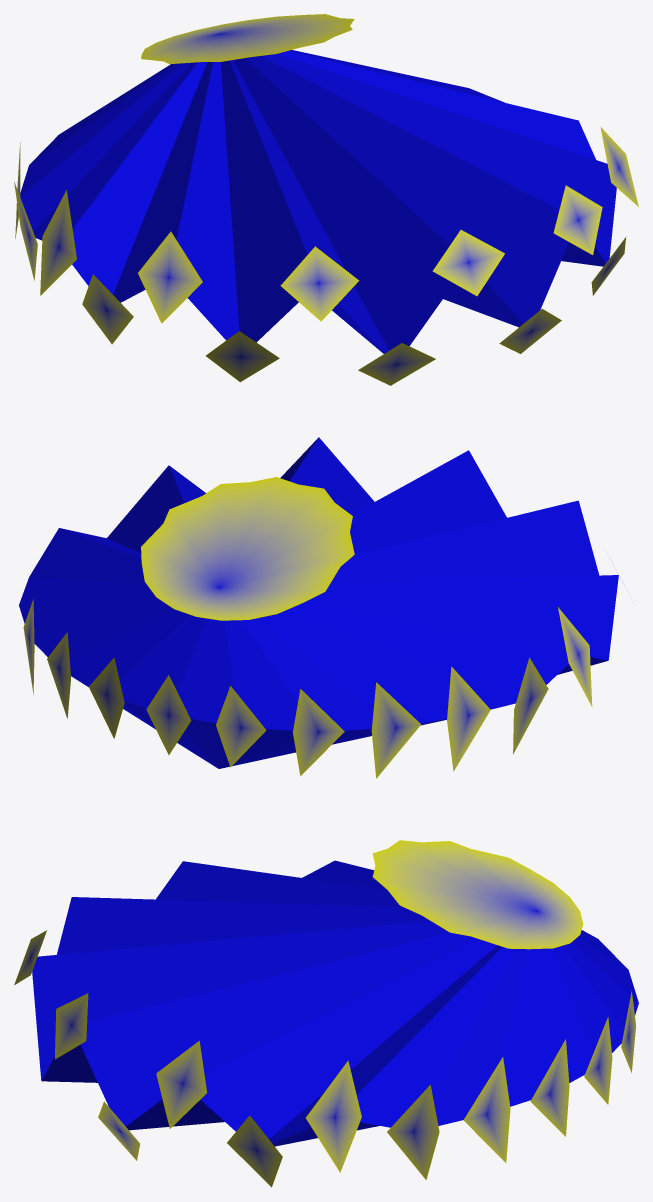
File: scallopFacets.glb
3 renders of one model, top to bottom at view 1: azimuth 30°, elevation 25°; view 2: azimuth 150°, elevation 25°; view 3: azimuth 270°, elevation 25°, orthographic.
Size of the model in its own units: 6.37 by 3.01 by 6.17.
